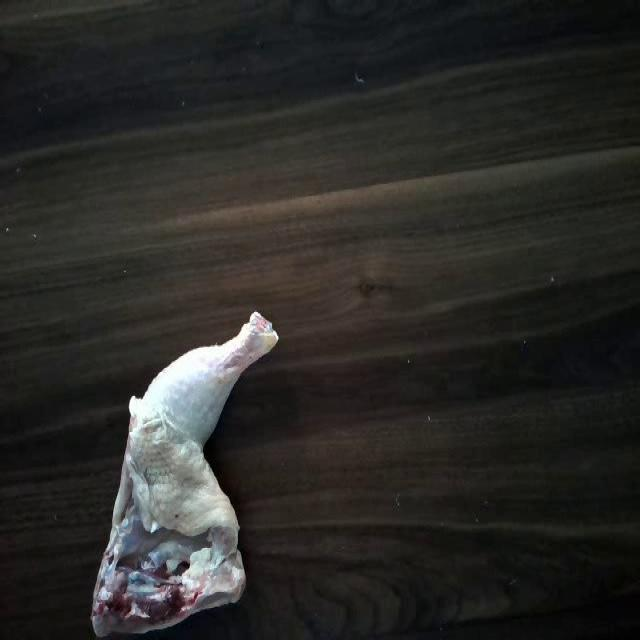quater: (81, 313, 296, 629)
